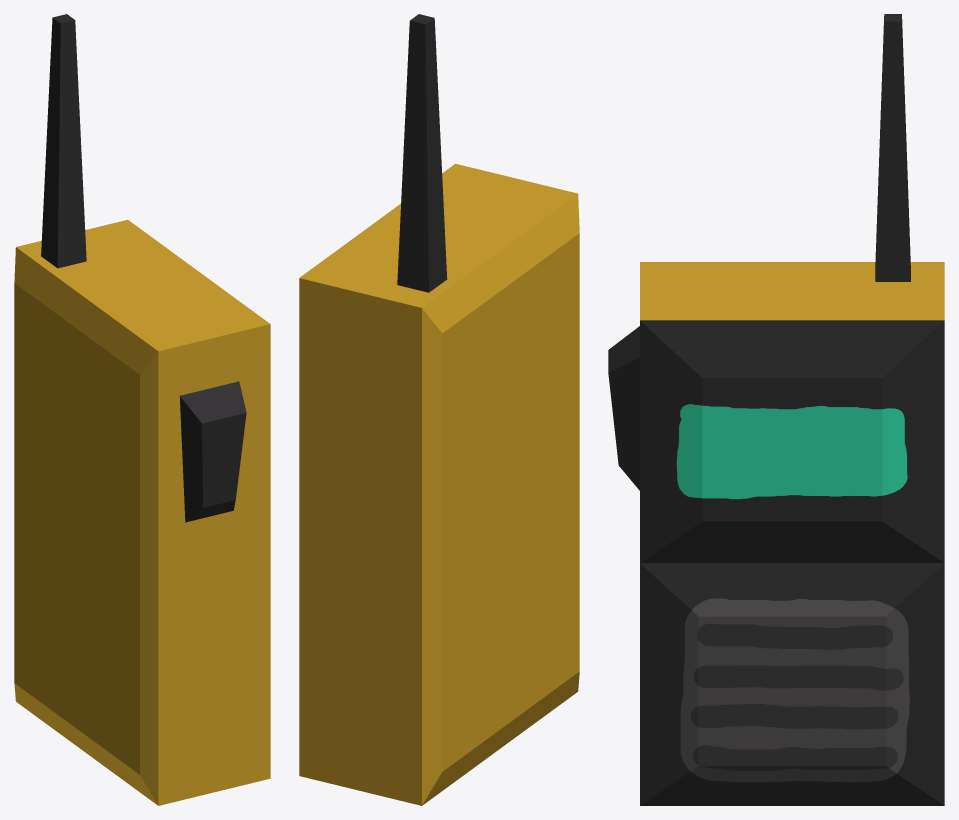
File: walkieTalkie.fbx
The picture shows the model from 3 angles, left to right: view 1: azimuth 30°, elevation 25°; view 2: azimuth 150°, elevation 25°; view 3: azimuth 270°, elevation 25°; orthographic projection. The views are drawn at different scales.
Parts seen in each view (by area): view 1: Cube; view 2: Cube; view 3: Cube.
Part boxes in pixels (<box>): Cube: <box>14,14,270,805</box>; Cube: <box>299,14,579,805</box>; Cube: <box>608,14,944,805</box>.
Size of the model in its own units: 63.32 by 306 by 125.
